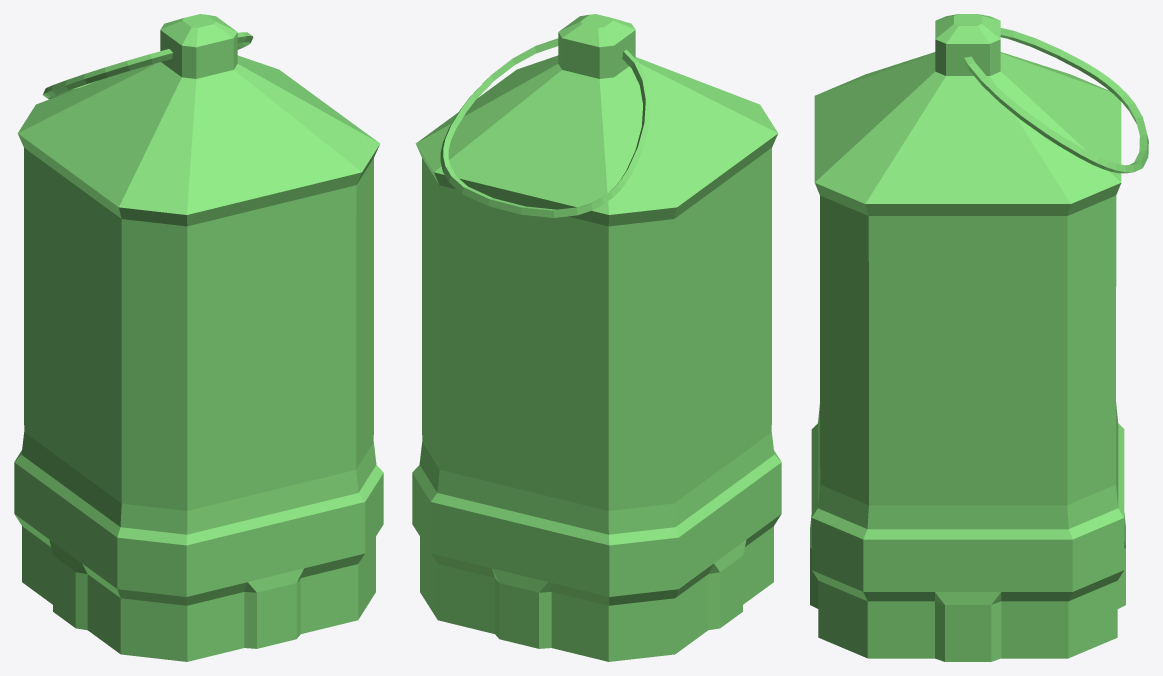
The model's file is LampV2_R.fbx.
The picture shows the model from 3 angles, left to right: view 1: azimuth 30°, elevation 25°; view 2: azimuth 150°, elevation 25°; view 3: azimuth 270°, elevation 25°; orthographic projection.
Visible parts, largest first — view 1: LampV2; view 2: LampV2; view 3: LampV2.
Boxes of the visible parts, bbox=[...] form: LampV2: bbox=[14, 14, 383, 661]; LampV2: bbox=[412, 14, 781, 661]; LampV2: bbox=[810, 14, 1148, 661].
Bounding box in the file's own units: 20.87 × 41.91 × 22.37.
